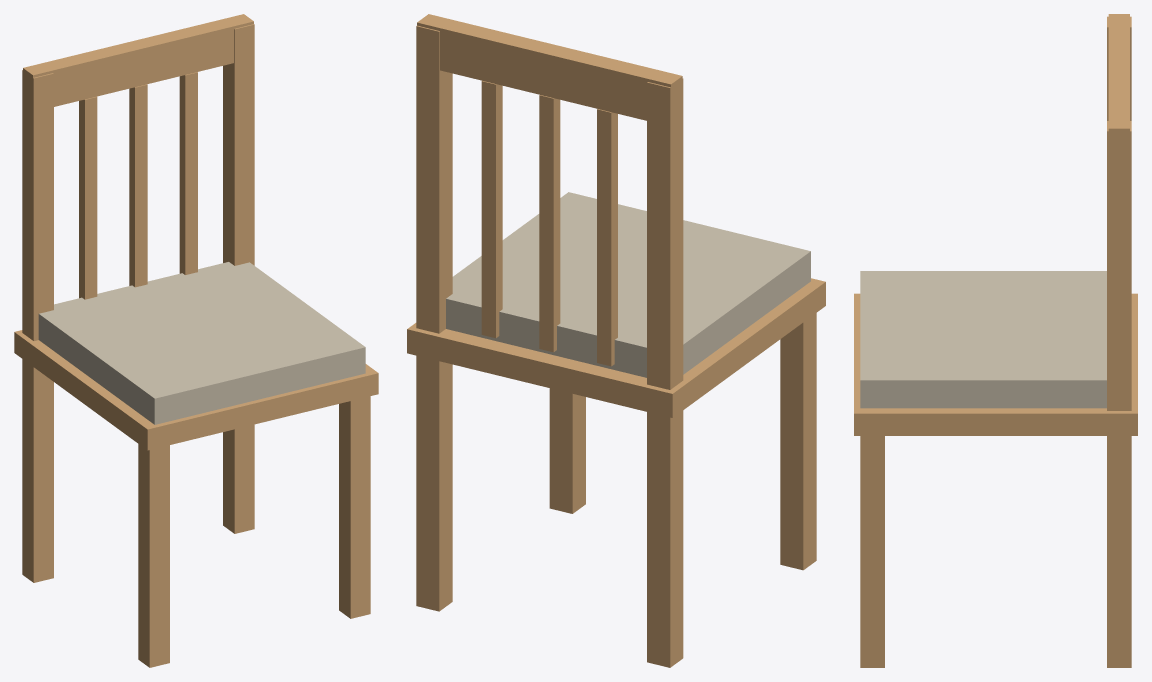
Rendered from dining_chair.obj.
3 renders of one model, left to right at view 1: azimuth 30°, elevation 25°; view 2: azimuth 150°, elevation 25°; view 3: azimuth 270°, elevation 25°, orthographic. The views are drawn at different scales.
Visible parts, largest first — view 1: frame, cushion; view 2: frame, cushion; view 3: cushion, frame.
Boxes of the visible parts, x1=… form: frame: x1=14, y1=14, x2=378, y2=667; cushion: x1=38, y1=262, x2=365, y2=424; frame: x1=407, y1=14, x2=825, y2=667; cushion: x1=446, y1=192, x2=810, y2=377; cushion: x1=860, y1=271, x2=1106, y2=408; frame: x1=854, y1=14, x2=1137, y2=667.
Bounding box in the file's own units: 0.46 × 0.965 × 0.46.
